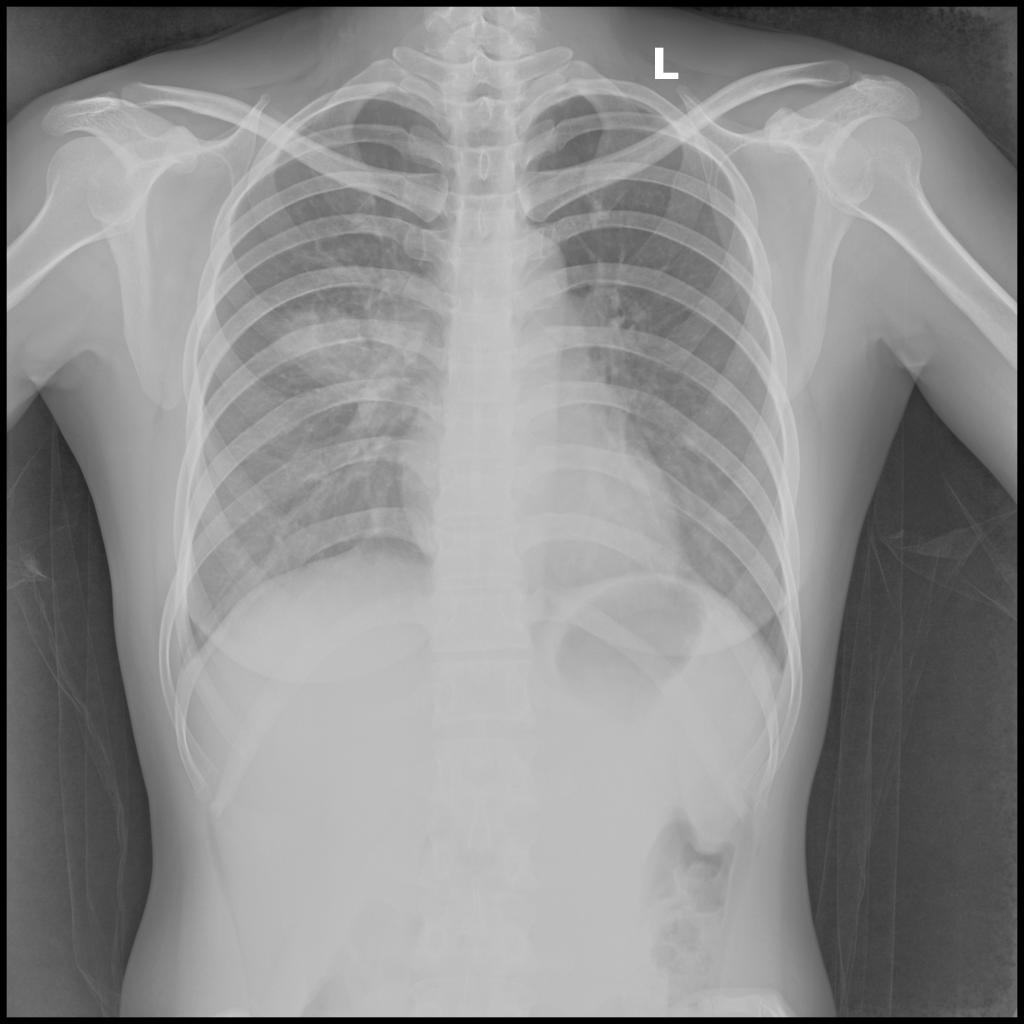Nodule: (276, 301, 373, 385)
